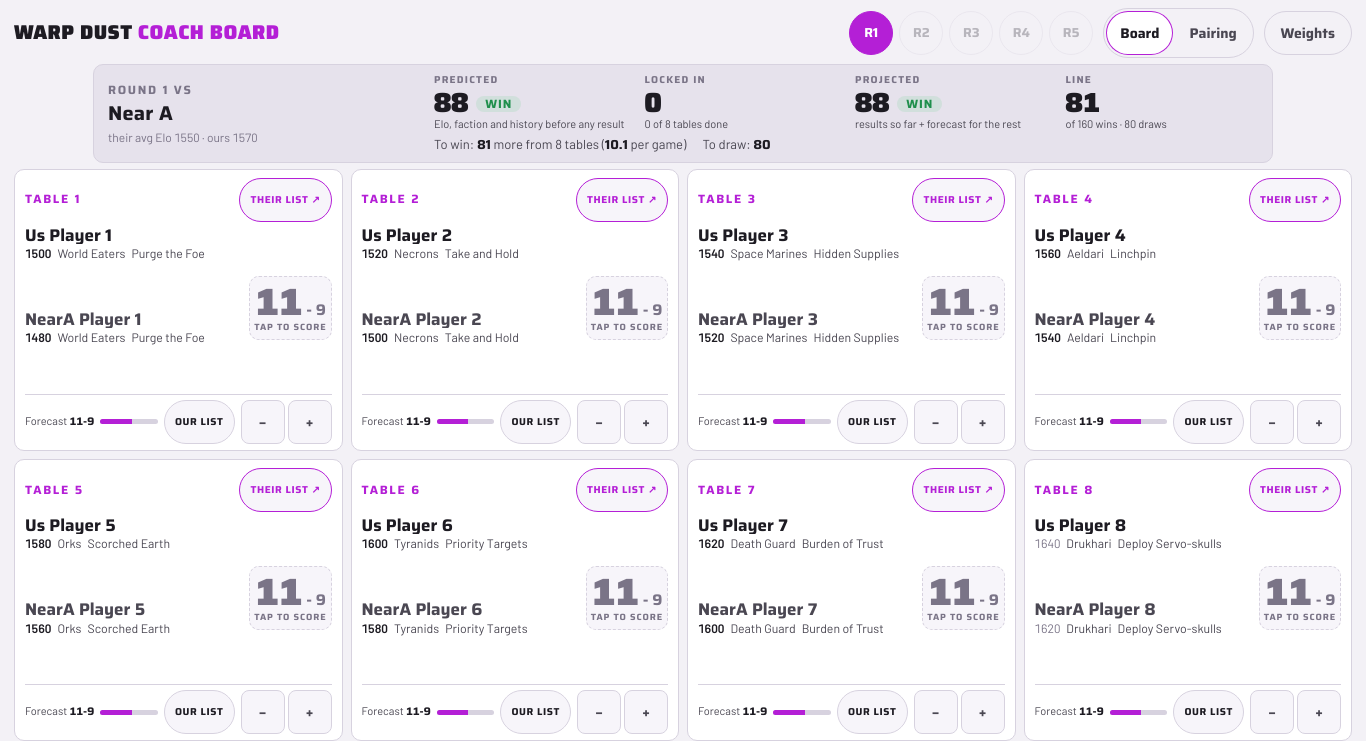
Scenario: board save queue and poll race › arms Set tables at 8 locks when our team rosters 9 and still lists all 9 as rows
Click the tab "Pairing". click: (1213, 33)
box: [1176, 11, 1251, 55]
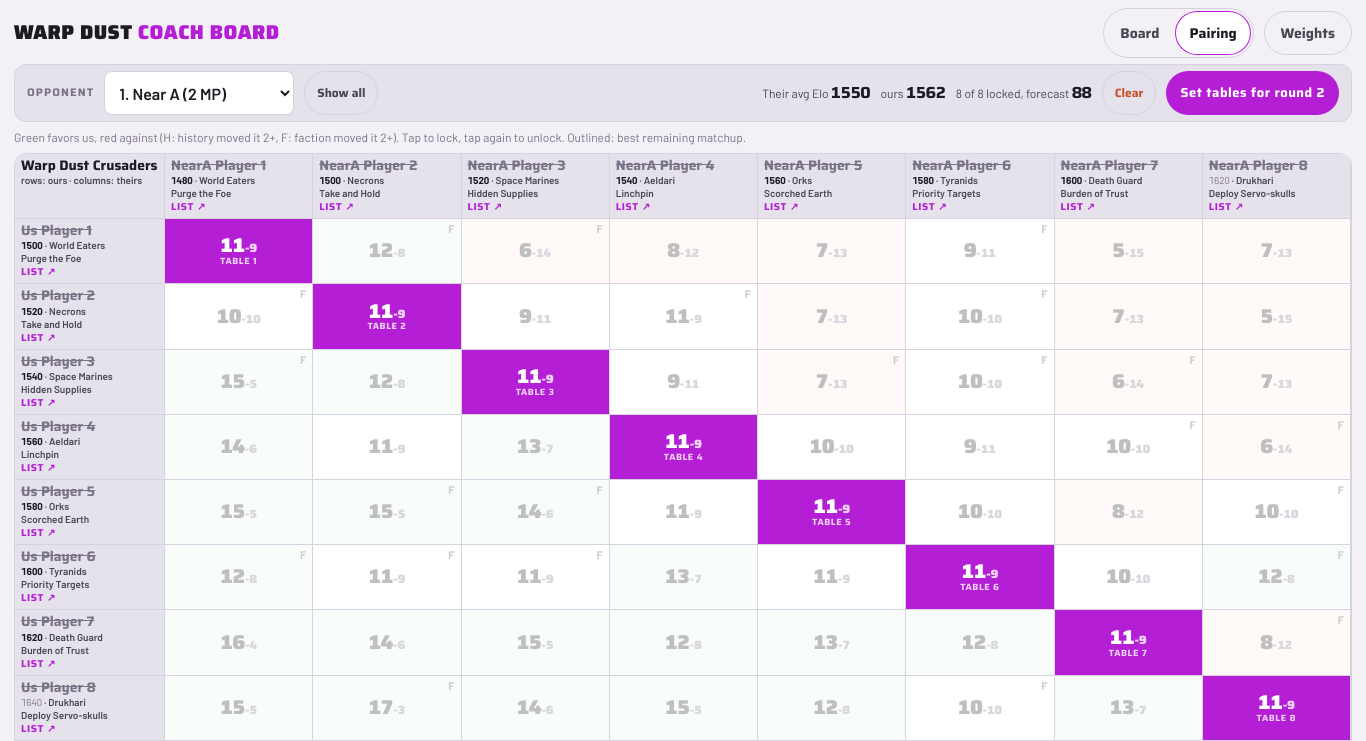
Expected: the number of buttons "11-9 table 1" is 72
Expected: the text "8 of 8 locked, forecast 88" is shown, [956, 82, 1092, 104]
Expected: the button "Set tables for round 2" is enabled, [1166, 71, 1339, 115]
